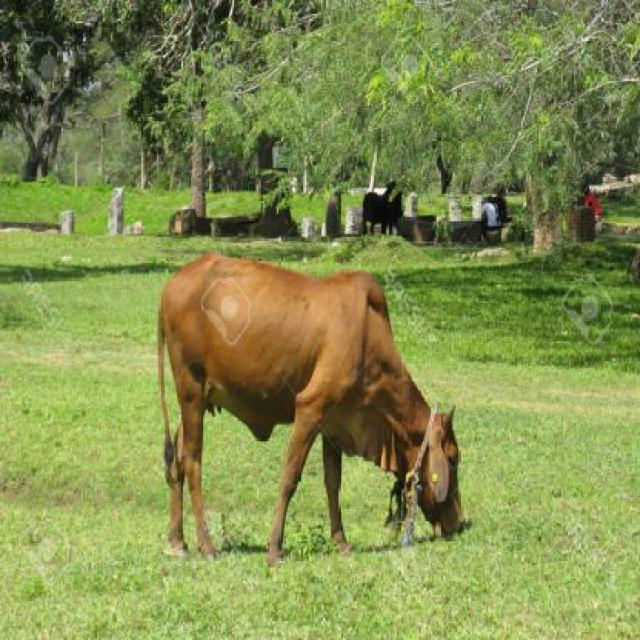Cow: (158, 251, 474, 558)
